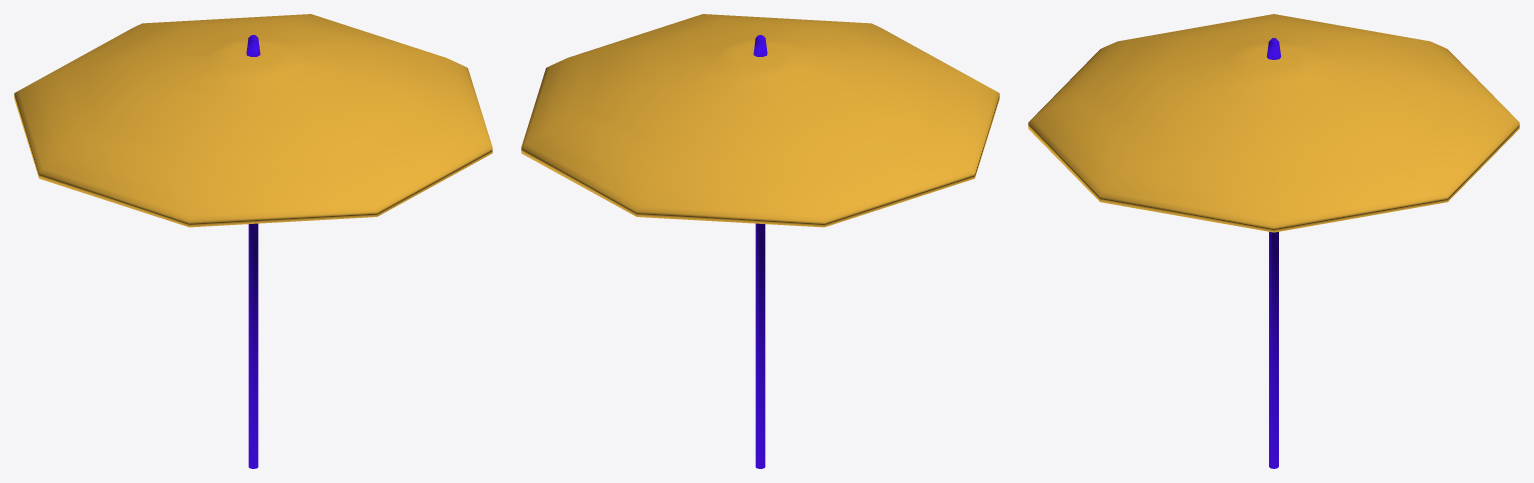
Rendered from Umbrella.fbx.
3 renders of one model, left to right at view 1: azimuth 30°, elevation 25°; view 2: azimuth 150°, elevation 25°; view 3: azimuth 270°, elevation 25°, orthographic.
Parts seen in each view (by area): view 1: Umbrella; view 2: Umbrella; view 3: Umbrella.
Part boxes in pixels (x1,y1,x2,y2): Umbrella: (14, 14, 492, 468); Umbrella: (521, 14, 999, 468); Umbrella: (1028, 14, 1519, 468).
Size of the model in its own units: 273 by 262 by 273.
